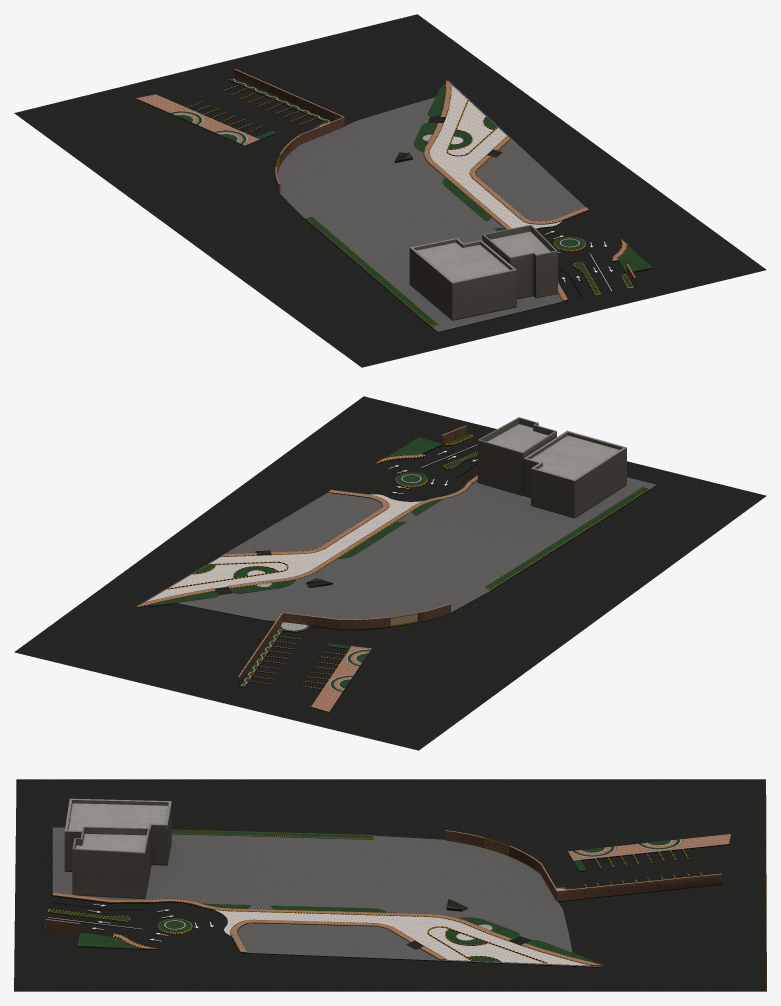
The model's file is Delta_9_Exterior-Model.glb.
3 views of the same model, one above another, from view 1: azimuth 30°, elevation 25°; view 2: azimuth 150°, elevation 25°; view 3: azimuth 270°, elevation 25° (orthographic). The views are drawn at different scales.
Visible parts, largest first — view 1: Road, Base, SB_2, Entrance path, Grass, SB_Roof, F_Path, Pavment, wall; view 2: Road, Base, SB_2, Entrance path, Grass, Pavment, SB_Roof, F_Path, wall, Stone; view 3: Road, Base, SB_2, Entrance path, Grass, Pavment, F_Path, wall, SB_Roof, Stone.
Boxes of the visible parts, bbox=[...] form: Road: bbox=[14, 14, 766, 367]; Base: bbox=[277, 80, 585, 331]; SB_2: bbox=[409, 224, 557, 319]; Entrance path: bbox=[429, 85, 561, 228]; Grass: bbox=[170, 78, 652, 325]; SB_Roof: bbox=[416, 231, 550, 281]; F_Path: bbox=[136, 80, 626, 300]; Pavment: bbox=[187, 79, 633, 326]; wall: bbox=[234, 69, 635, 287]; Road: bbox=[14, 396, 766, 750]; Base: bbox=[136, 477, 656, 629]; SB_2: bbox=[477, 417, 626, 517]; Entrance path: bbox=[146, 494, 422, 601]; Grass: bbox=[147, 435, 649, 692]; Pavment: bbox=[138, 434, 650, 688]; SB_Roof: bbox=[487, 424, 619, 479]; F_Path: bbox=[138, 454, 477, 711]; wall: bbox=[238, 425, 466, 685]; Stone: bbox=[240, 474, 421, 692]; Road: bbox=[14, 779, 766, 991]; Base: bbox=[52, 827, 601, 966]; SB_2: bbox=[64, 798, 171, 898]; Entrance path: bbox=[214, 909, 589, 965]; Grass: bbox=[49, 830, 722, 962]; Pavment: bbox=[44, 829, 722, 965]; F_Path: bbox=[53, 834, 730, 965]; wall: bbox=[45, 830, 721, 934]; SB_Roof: bbox=[68, 803, 167, 851]; Stone: bbox=[164, 839, 681, 930].
Size of the model in its own units: 14.01 by 1.59 by 21.
Materials: 1 (1 with a texture image).
